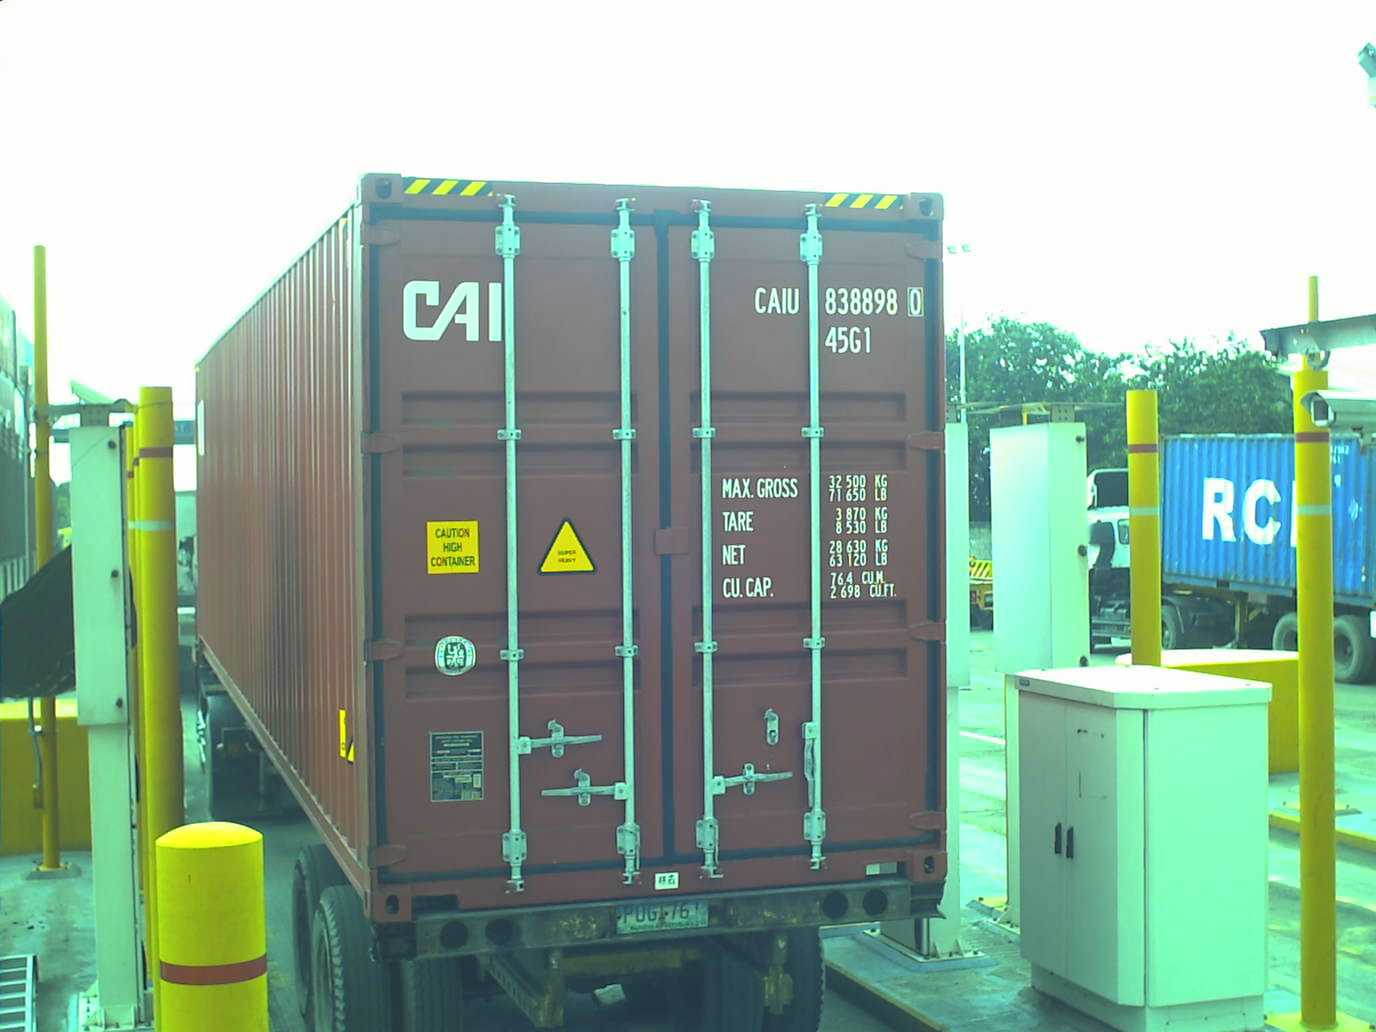container_door: (356, 172, 953, 898)
